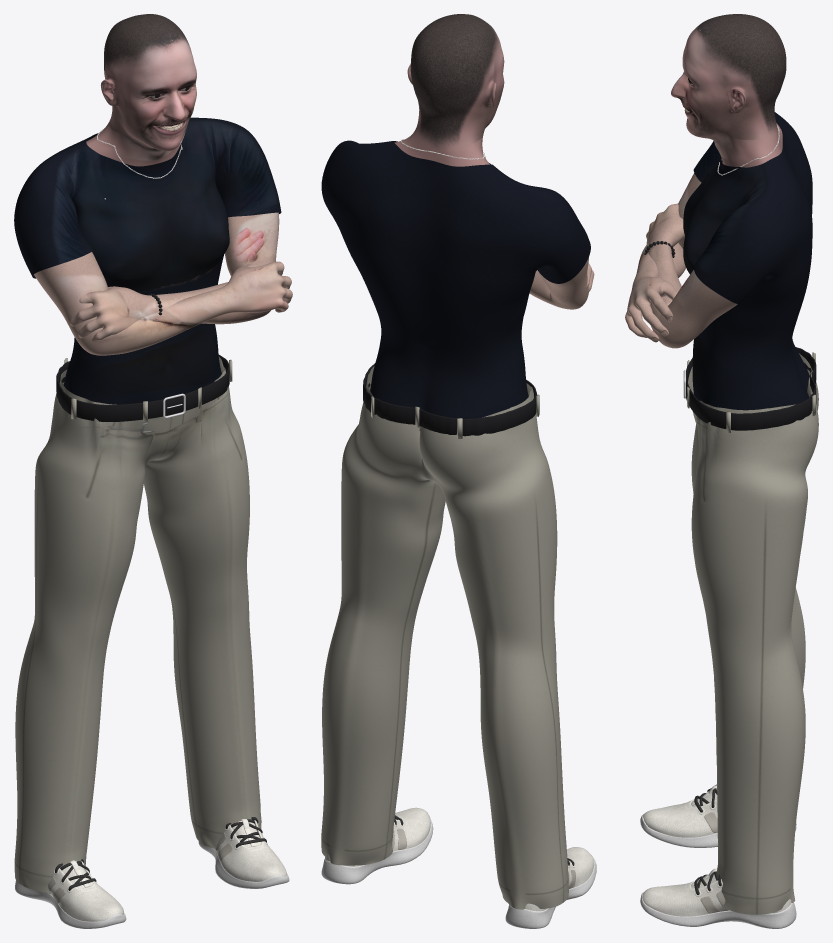
The model's file is nitsan.glb.
3 views of the same model, side by side, from view 1: azimuth 30°, elevation 25°; view 2: azimuth 150°, elevation 25°; view 3: azimuth 270°, elevation 25° (orthographic).
Parts seen in each view (by area): view 1: pants, tee, skin, head, shoe_r, shoe_l, belt; view 2: pants, tee, head, belt, shoe_l, shoe_r, skin; view 3: pants, tee, head, skin, shoe_l, shoe_r, belt.
Boxes of the visible parts, left/top/right/bottom form: pants: left=14, top=356, right=261, bottom=892; tee: left=14, top=117, right=281, bottom=404; skin: left=34, top=212, right=292, bottom=355; head: left=86, top=14, right=196, bottom=166; shoe_r: left=15, top=859, right=126, bottom=928; shoe_l: left=198, top=817, right=289, bottom=888; belt: left=56, top=355, right=229, bottom=421; pants: left=321, top=366, right=568, bottom=909; tee: left=321, top=140, right=590, bottom=430; head: left=394, top=14, right=504, bottom=166; belt: left=363, top=363, right=536, bottom=436; shoe_l: left=321, top=807, right=433, bottom=884; shoe_r: left=505, top=847, right=596, bottom=928; skin: left=529, top=257, right=594, bottom=309; pants: left=688, top=353, right=818, bottom=914; tee: left=683, top=112, right=812, bottom=410; head: left=671, top=14, right=786, bottom=167; skin: left=625, top=173, right=737, bottom=348; shoe_l: left=640, top=868, right=796, bottom=928; shoe_r: left=640, top=784, right=796, bottom=847; belt: left=686, top=347, right=816, bottom=430.
Bounding box in the file's own units: 0.5567 × 1.85 × 0.3789.
11 materials, 7 textured.
